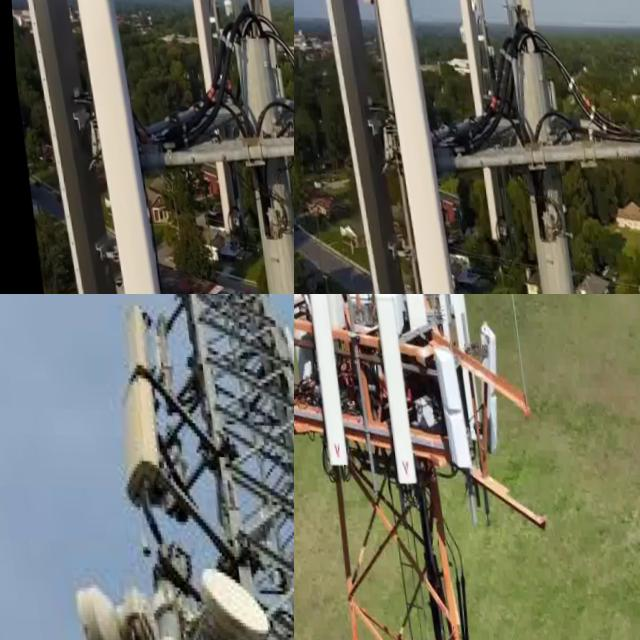GSM Antenna: (360, 0, 472, 294), (302, 0, 407, 294), (24, 0, 113, 294), (70, 0, 156, 294), (177, 0, 247, 244), (450, 0, 510, 246), (363, 294, 417, 487), (294, 294, 349, 478), (105, 372, 165, 510), (241, 0, 291, 135), (425, 334, 472, 475), (469, 302, 507, 446), (505, 0, 544, 94), (114, 294, 153, 386), (430, 294, 472, 344)
Microwave Antenna: (181, 550, 278, 640), (61, 573, 135, 640)
